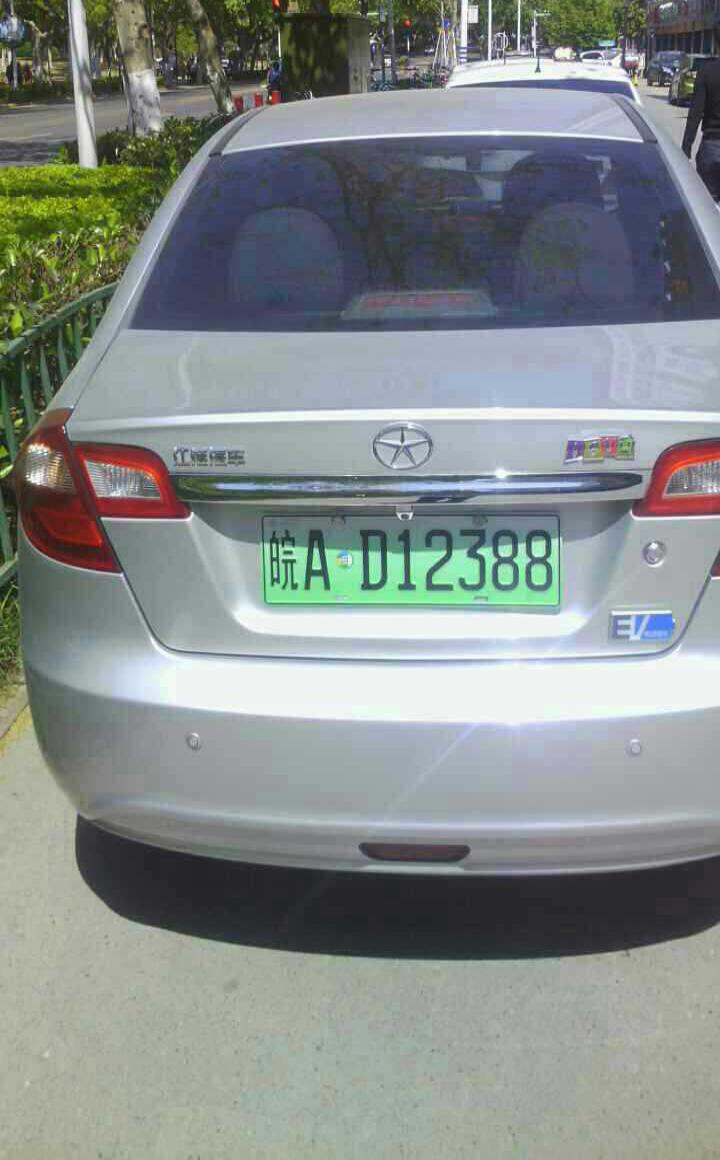car_id: (260, 514, 560, 602)
